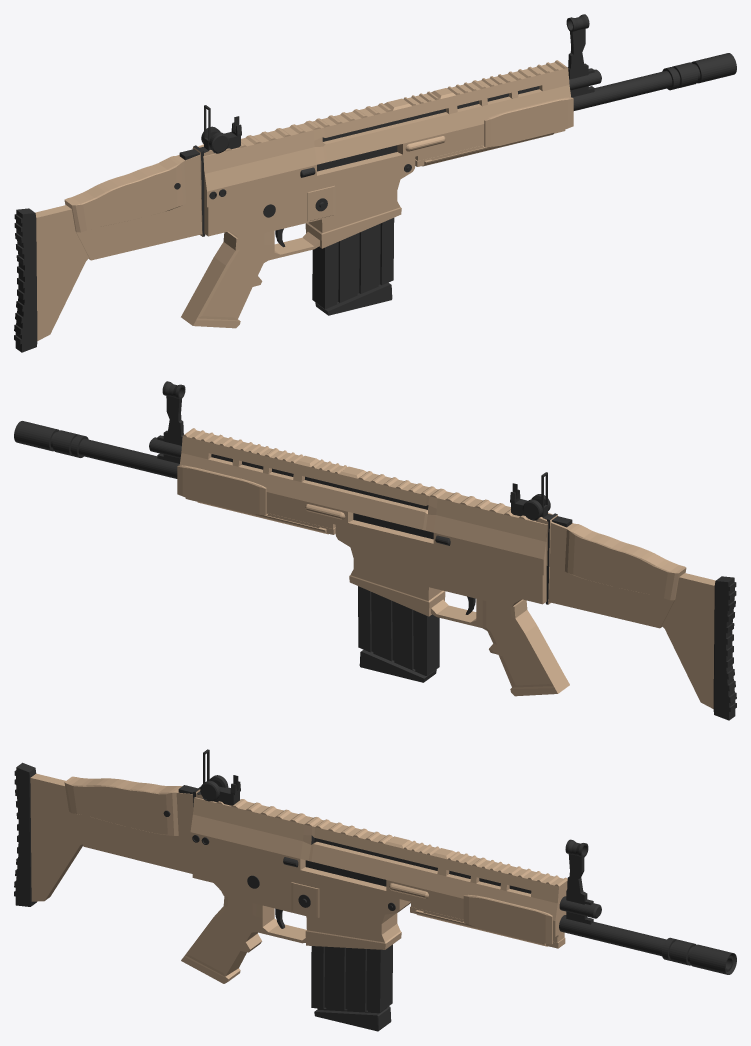
The model's file is SCAR-H.fbx.
3 renders of one model, top to bottom at view 1: azimuth 30°, elevation 25°; view 2: azimuth 150°, elevation 25°; view 3: azimuth 330°, elevation 25°, orthographic.
Parts seen in each view (by area): view 1: ScarBody, ScarMag; view 2: ScarBody, ScarMag; view 3: ScarBody, ScarMag.
Part boxes in pixels (box(x1,y1,x2,y2)): ScarBody: box(14, 14, 736, 352); ScarMag: box(312, 218, 394, 315); ScarBody: box(14, 381, 736, 720); ScarMag: box(358, 586, 439, 682); ScarBody: box(14, 749, 736, 983); ScarMag: box(311, 944, 392, 1031).
Bounding box in the file's own units: 48.55 × 890 × 277.
